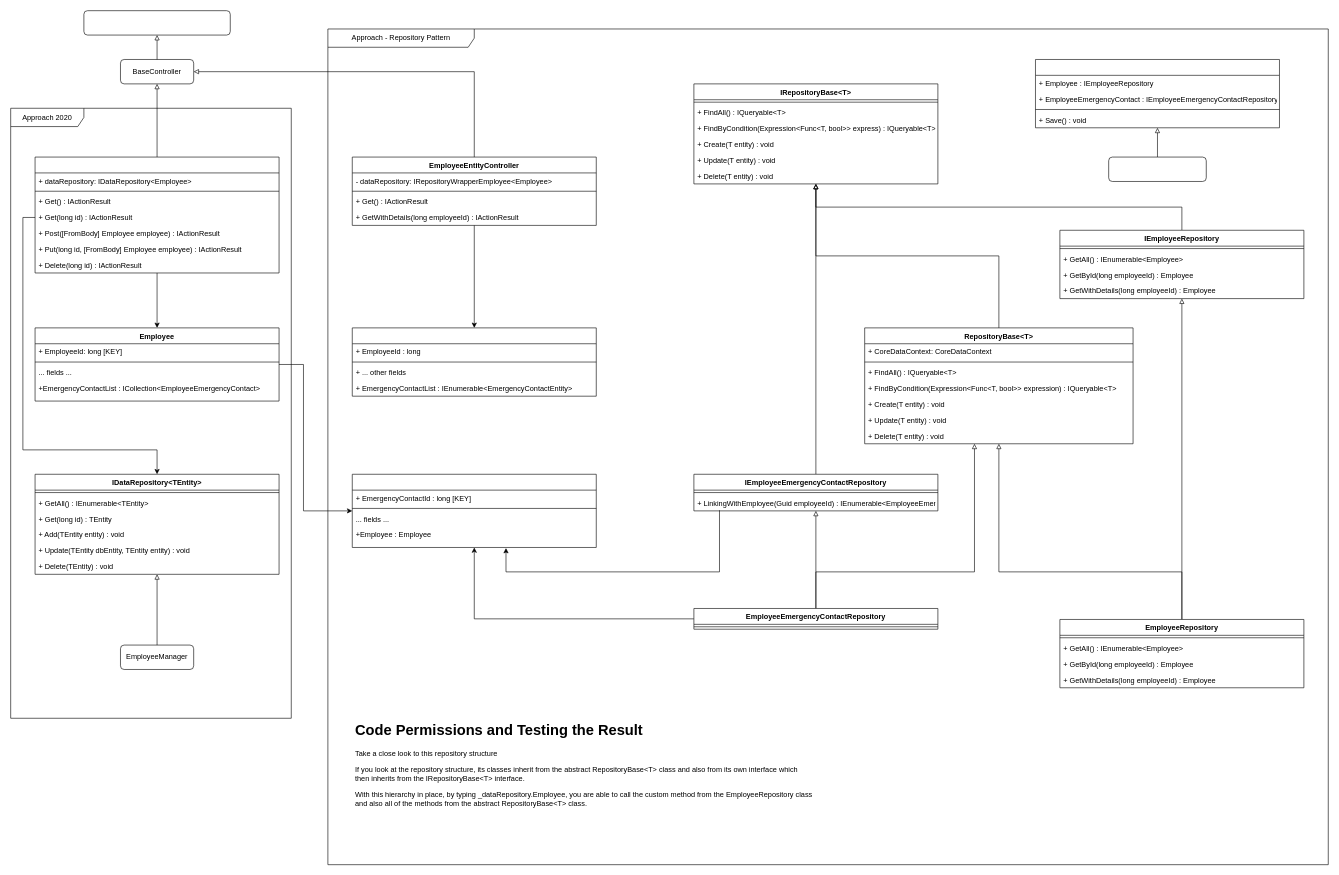
Some shapes in this 1339 by 875 pixel diagram are drawn without their labels. The box of each missing label's shape, as (x1, y1, x2, y2) in pixels:
EmployeeController: (34, 156, 279, 273)
EmployeeEmergencyContact: (352, 474, 596, 547)
EmployeeEntity: (352, 327, 596, 396)
IRepositoryWrapperEmployee: (1035, 59, 1279, 128)
Microsoft.AspNetCore.Mvc.ControllerBase: (83, 10, 230, 35)
RepositoryWrapperEmployee: (1108, 156, 1206, 181)
